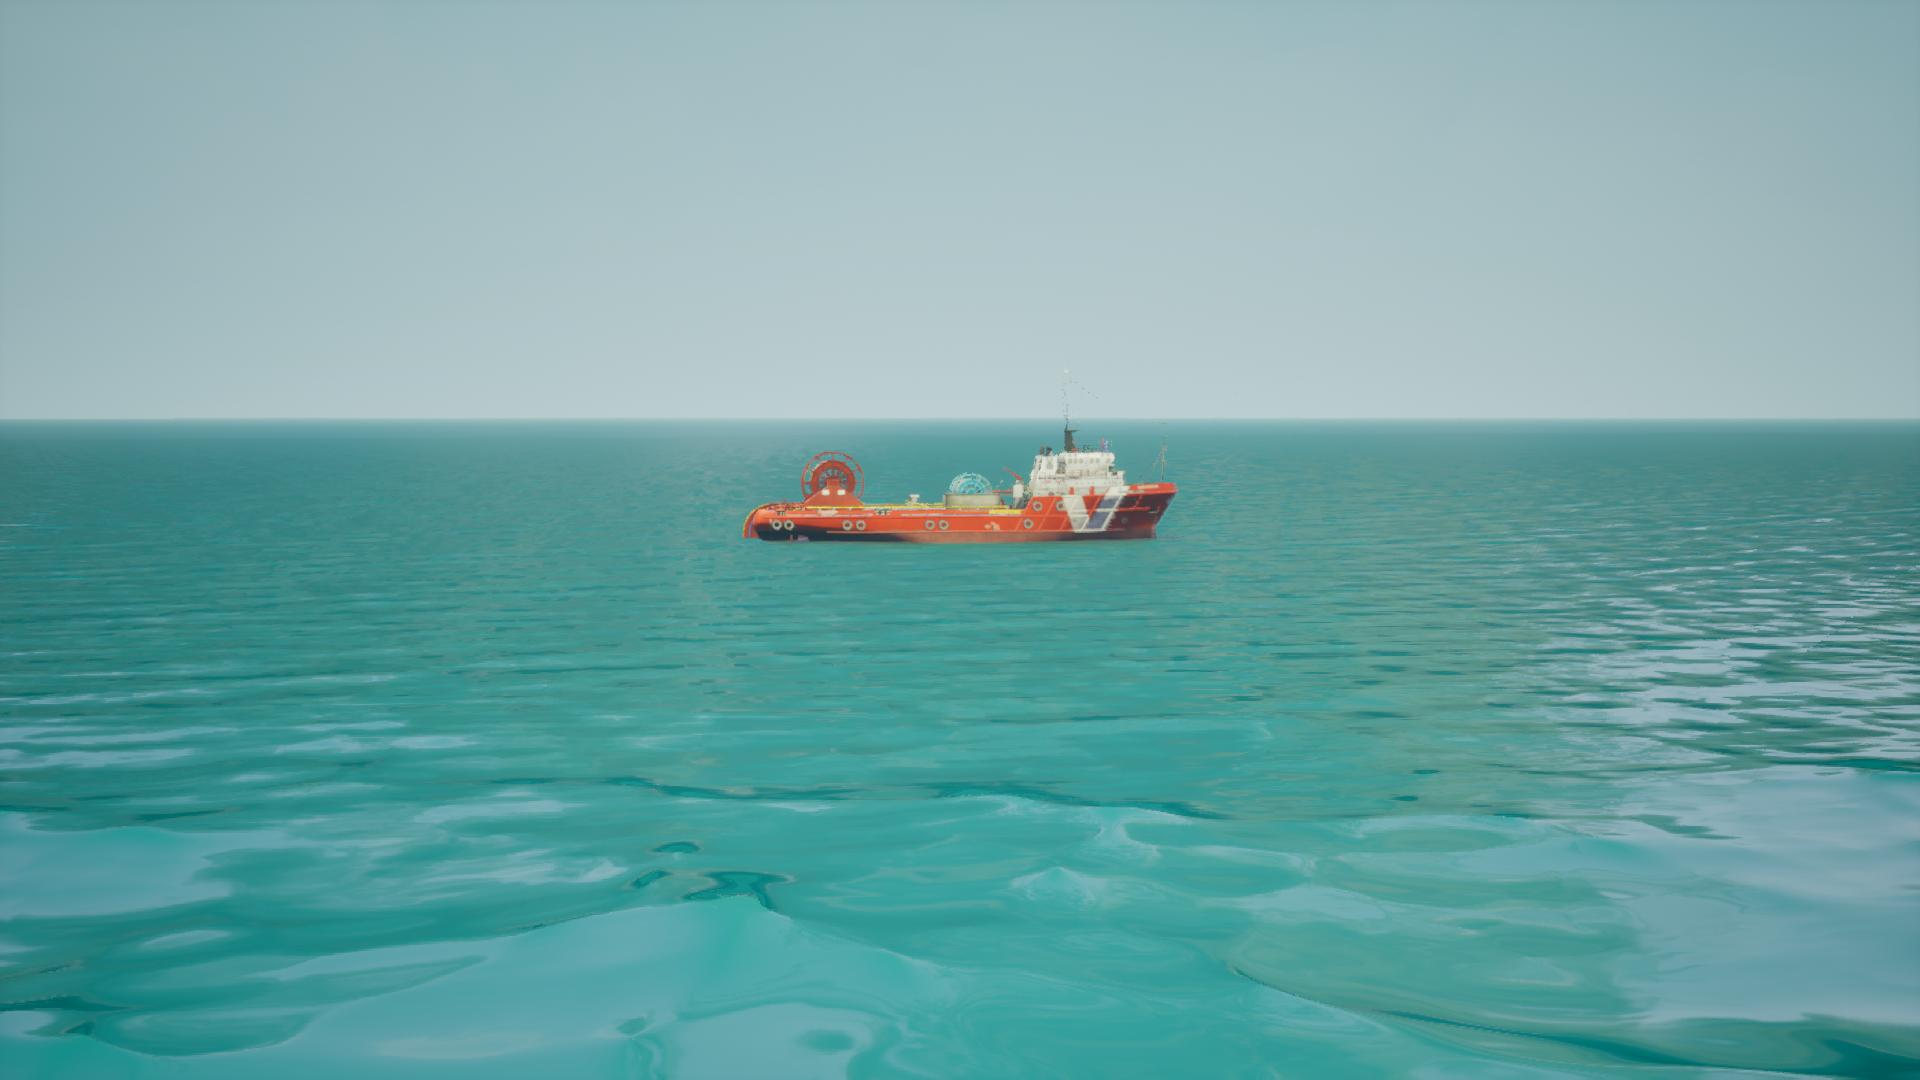Tug Boat: (745, 426, 1182, 546)
